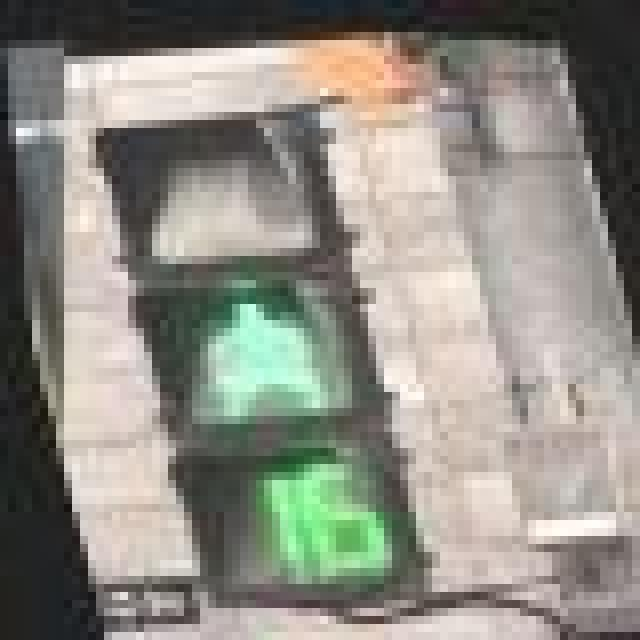greenlight: (96, 96, 392, 464)
